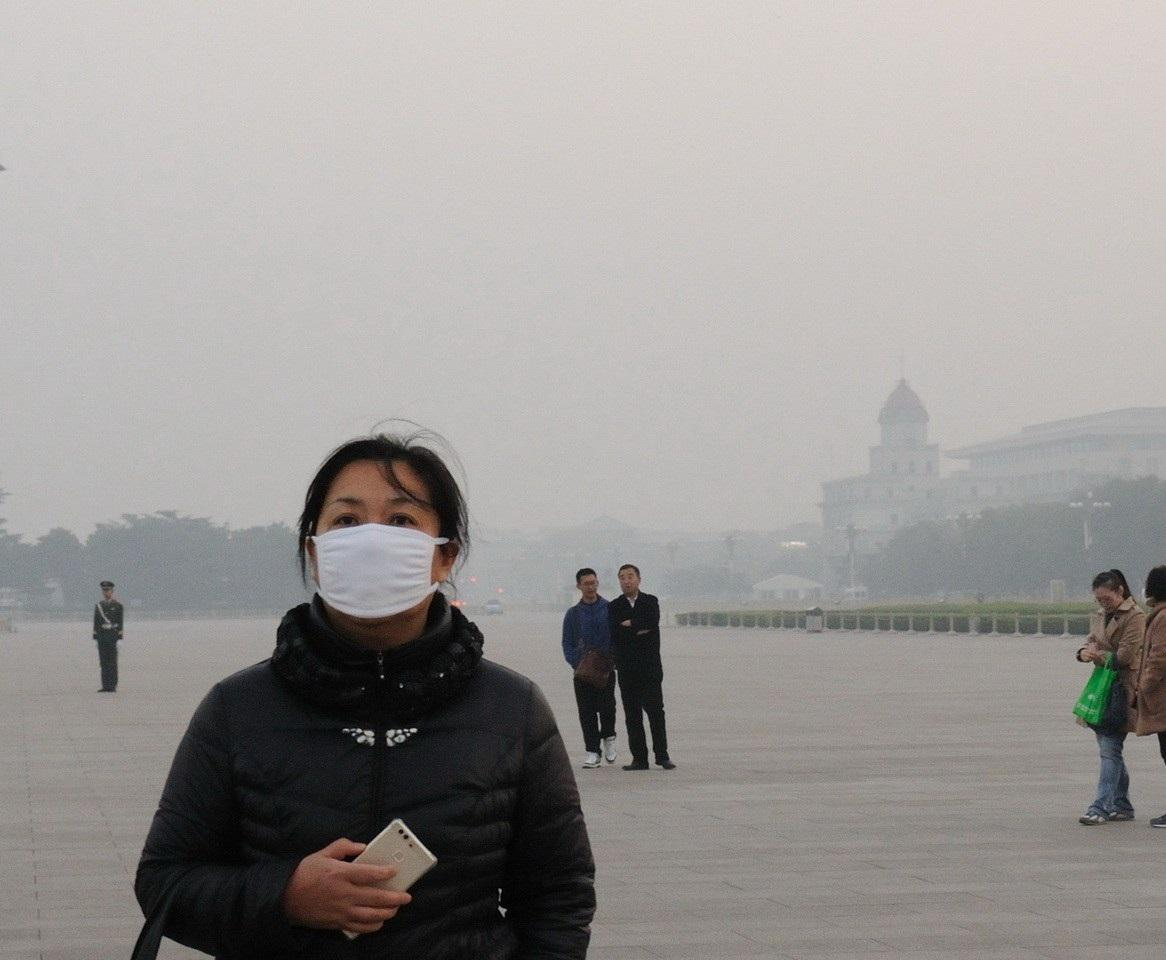NONE: (1097, 587, 1118, 613), (582, 577, 599, 598), (621, 572, 637, 594), (103, 588, 113, 600)
OK: (314, 475, 440, 622)
